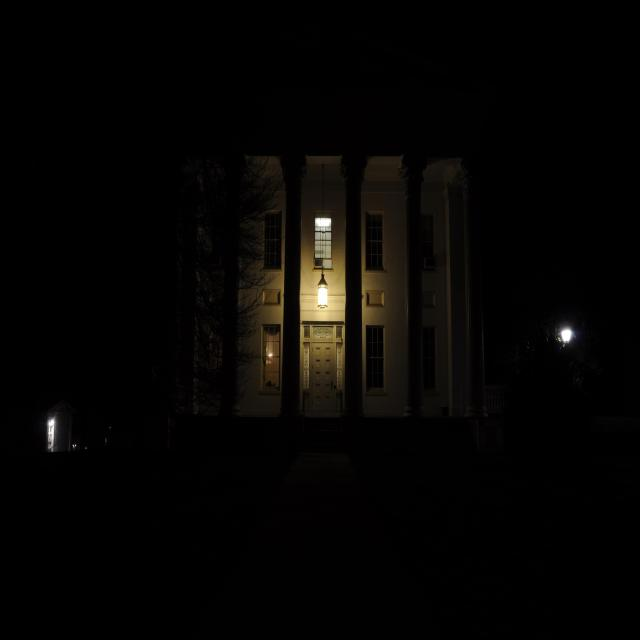other: (311, 275, 330, 318)
